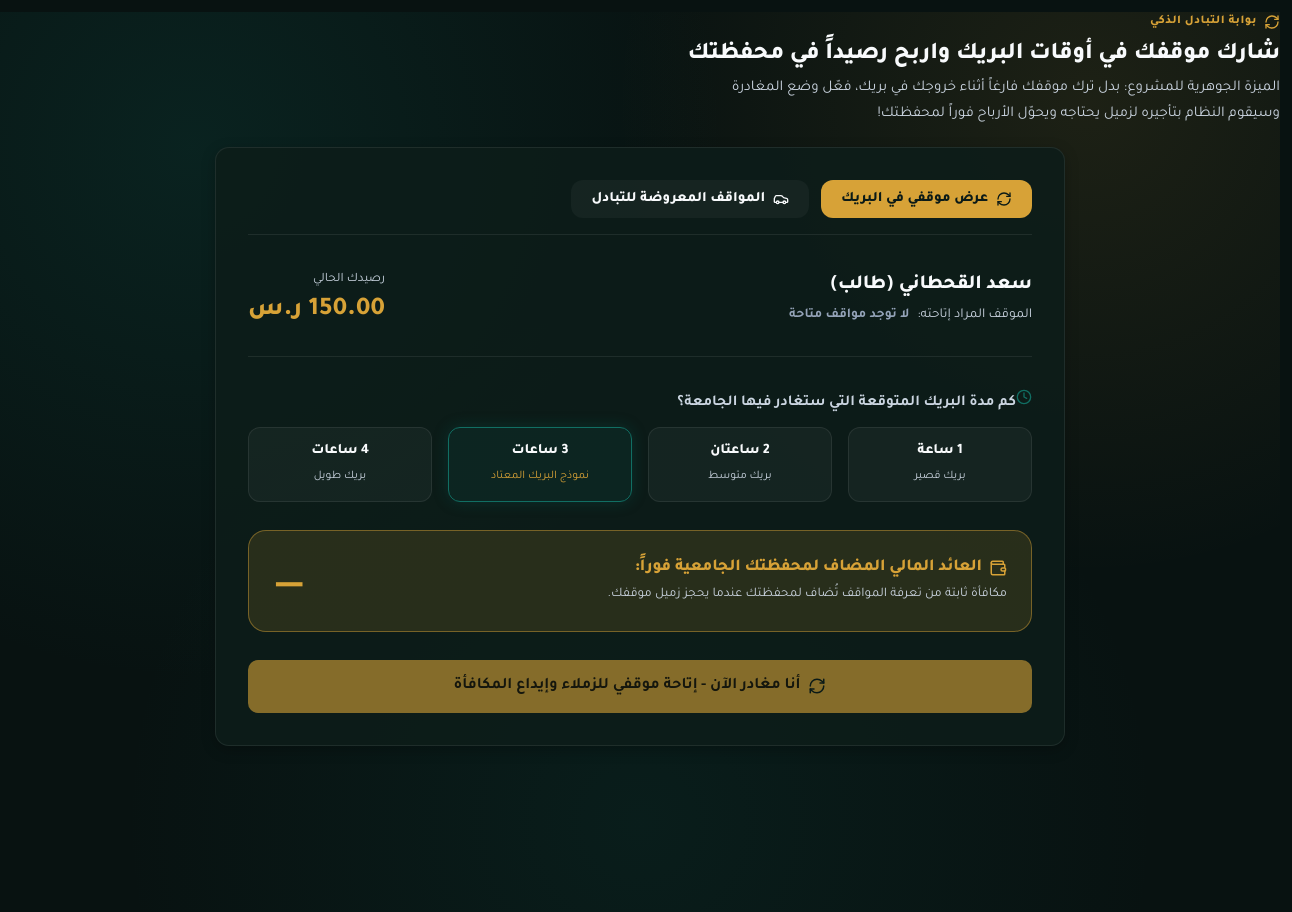
Test: ShareSpotView Component › switches to browse tab and allows claiming an available shared spot
The width and height of the screenshot is (1292, 912).
Click the button with test id "tab-browse-flex-spots".
click(690, 199)  # box [572, 180, 809, 218]
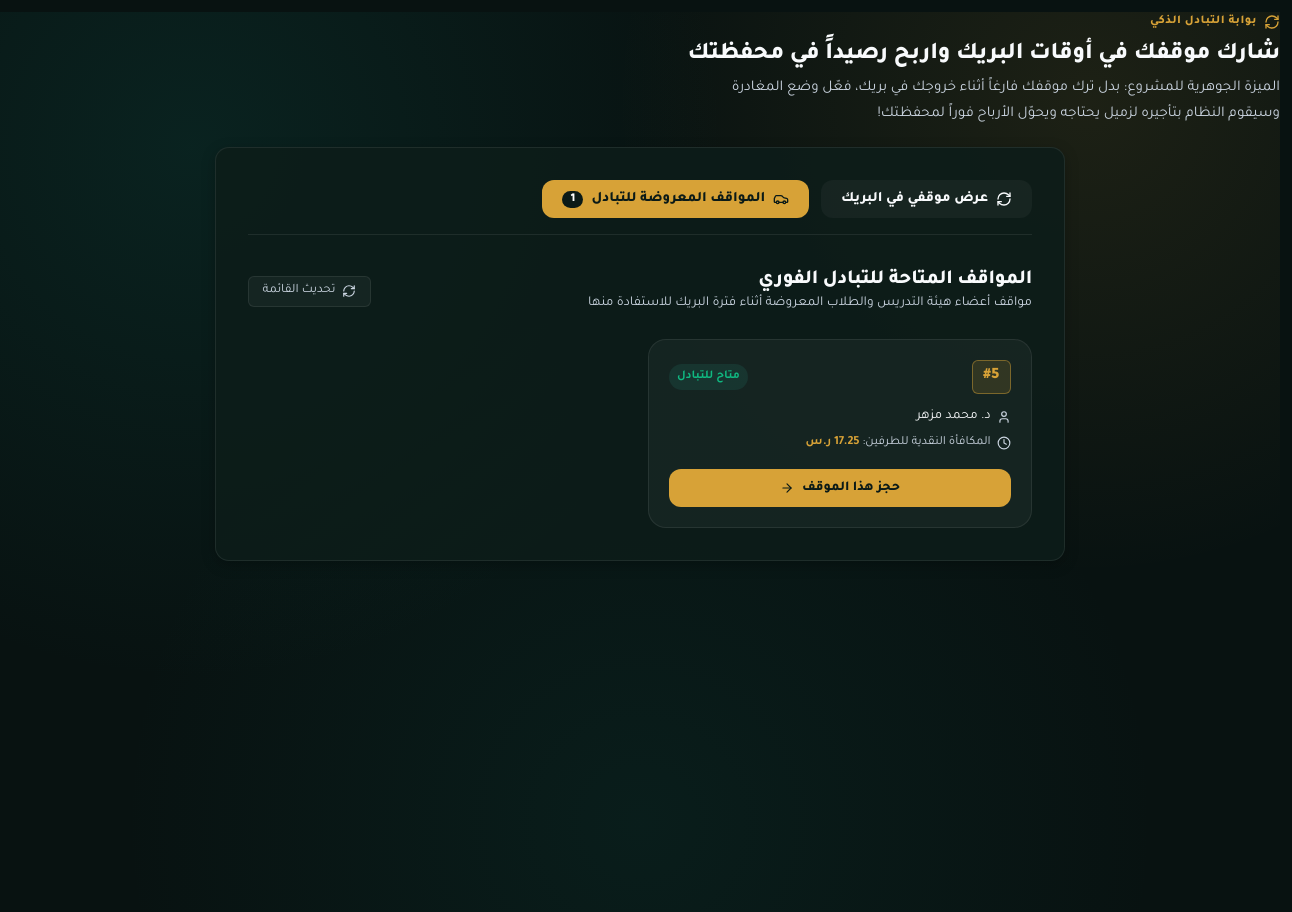
Now the element with test id "flex-offer-card-offer-uuid-1" is shown, box [648, 339, 1032, 528]
Now the text "#5" is shown, box [972, 360, 1011, 394]
Now the text "د. محمد مزهر" is shown, box [916, 406, 991, 428]
Click the button with test id "claim-offer-btn-offer-uuid-1".
click(840, 488)  # box [669, 469, 1011, 507]
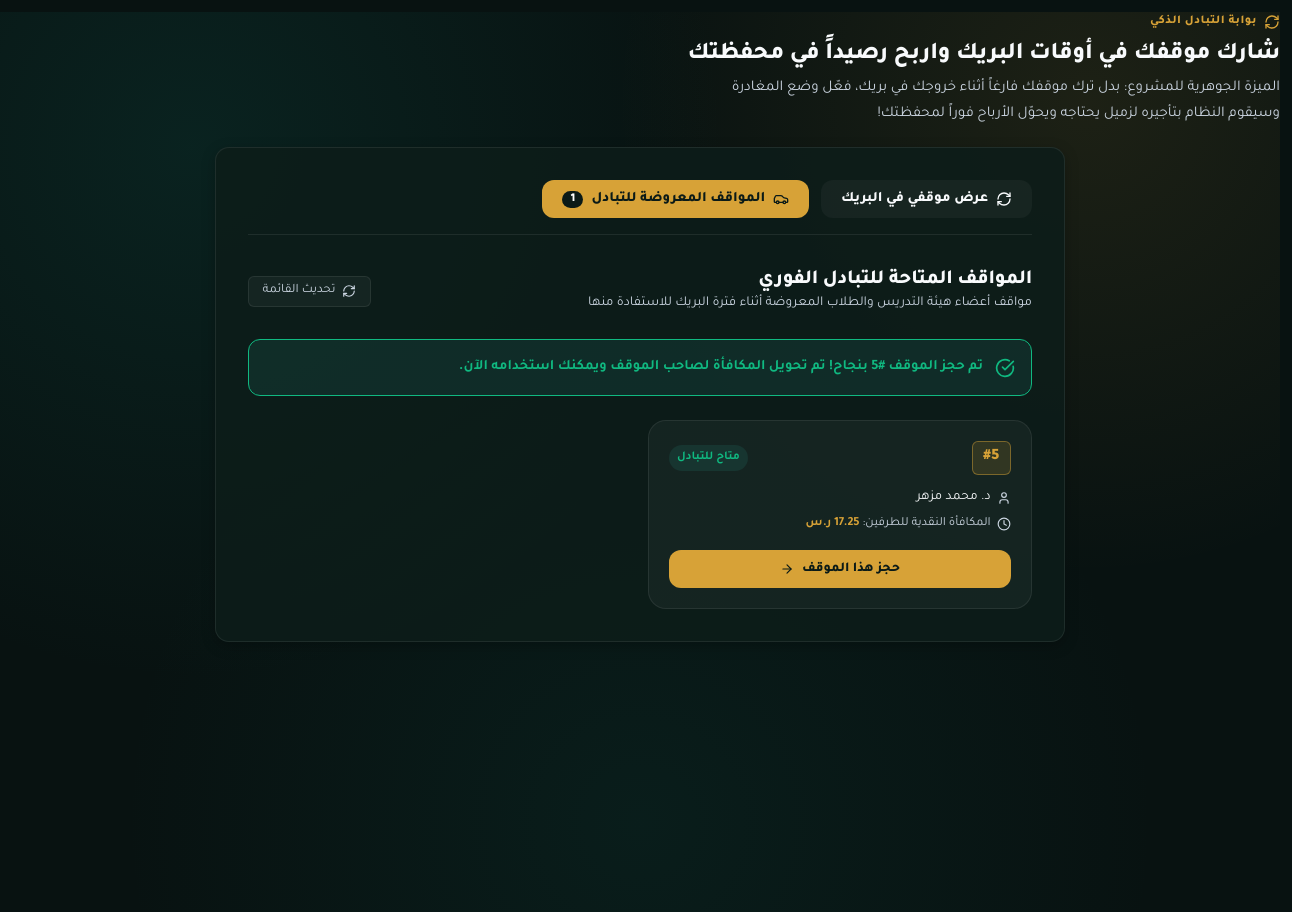
Now the element with test id "claim-success-banner" is shown, box [248, 339, 1032, 396]
